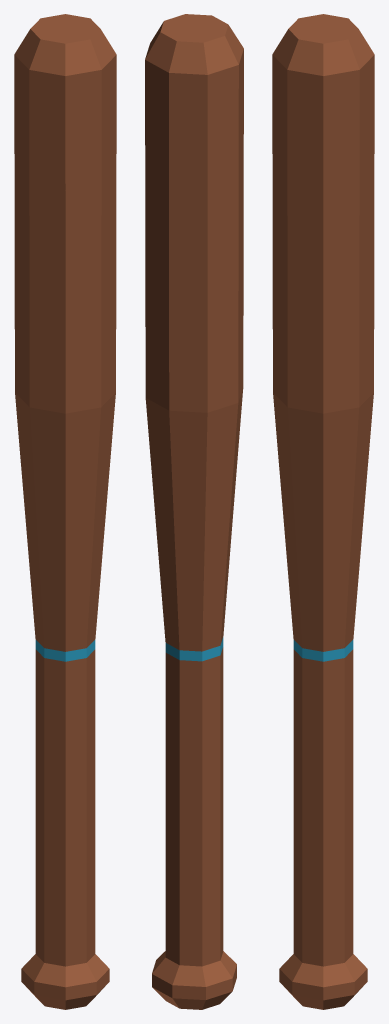
Rendered from Bat_mat.fbx.
3 renders of one model, left to right at view 1: azimuth 90°, elevation 25°; view 2: azimuth 150°, elevation 25°; view 3: azimuth 270°, elevation 25°, orthographic.
Parts seen in each view (by area): view 1: Bat_mat; view 2: Bat_mat; view 3: Bat_mat.
Boxes of the visible parts, x1,y1,x2,y2 form: Bat_mat: (14,14,116,1009); Bat_mat: (145,14,243,1009); Bat_mat: (272,14,374,1009).
Size of the model in its own units: 5.54 by 57.89 by 5.54.
